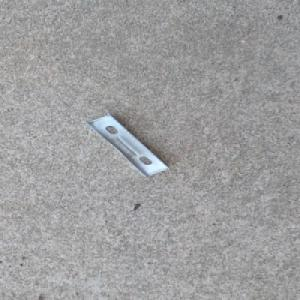ClampPart: (84, 112, 171, 179)
